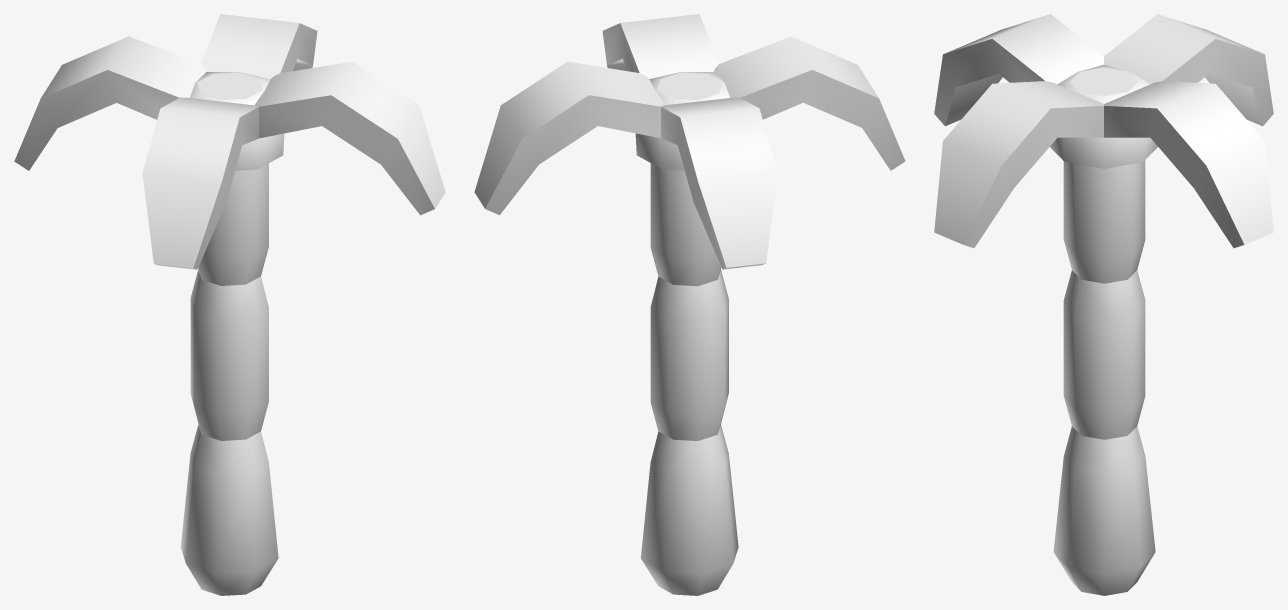
File: palm-straight.glb
3 renders of one model, left to right at view 1: azimuth 30°, elevation 25°; view 2: azimuth 150°, elevation 25°; view 3: azimuth 270°, elevation 25°, orthographic.
Parts seen in each view (by area): view 1: palm-straight; view 2: palm-straight; view 3: palm-straight.
Part boxes in pixels (left/top/right/bottom): palm-straight: left=14, top=14, right=445, bottom=595; palm-straight: left=474, top=14, right=905, bottom=595; palm-straight: left=934, top=14, right=1273, bottom=595.
Bounding box in the file's own units: 2.49 × 4.21 × 2.49.
1 material, 1 textured.
